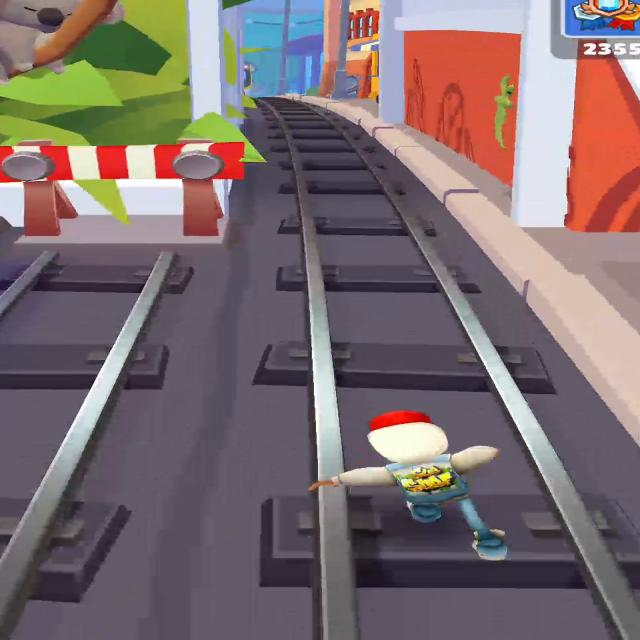block pillar: (0, 0, 253, 247)
